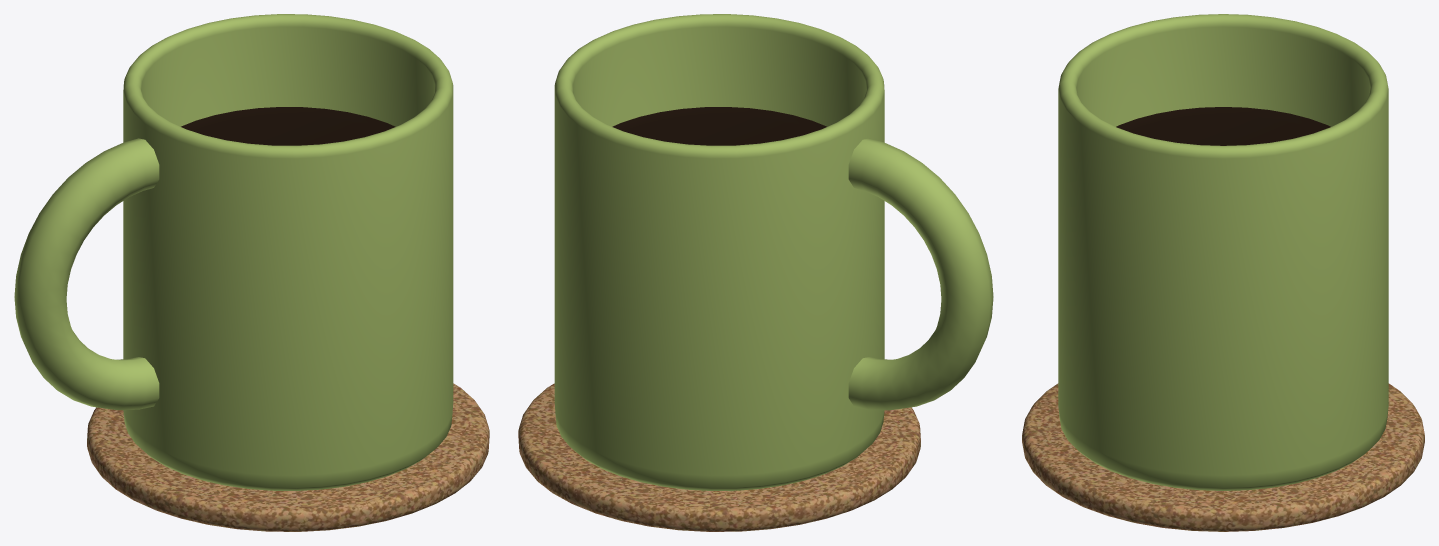
The model's file is coffee_mug.glb.
3 renders of one model, left to right at view 1: azimuth 30°, elevation 25°; view 2: azimuth 150°, elevation 25°; view 3: azimuth 270°, elevation 25°, orthographic.
Parts seen in each view (by area): view 1: Body_1, Coaster_0, Handle_3, Coffee_2; view 2: Body_1, Coaster_0, Handle_3, Coffee_2; view 3: Body_1, Coaster_0, Coffee_2.
Boxes of the visible parts, box(x1,y1,x2,y2) form: Body_1: box(123, 14, 453, 490); Coaster_0: box(87, 383, 489, 531); Handle_3: box(14, 138, 159, 410); Coffee_2: box(181, 107, 395, 145); Body_1: box(554, 14, 884, 490); Coaster_0: box(518, 383, 920, 531); Handle_3: box(848, 138, 993, 410); Coffee_2: box(612, 107, 826, 145); Body_1: box(1058, 14, 1388, 490); Coaster_0: box(1022, 383, 1424, 531); Coffee_2: box(1116, 107, 1330, 145).
Size of the model in its own units: 0.2741 by 0.2171 by 0.215.
3 materials, 1 textured.
